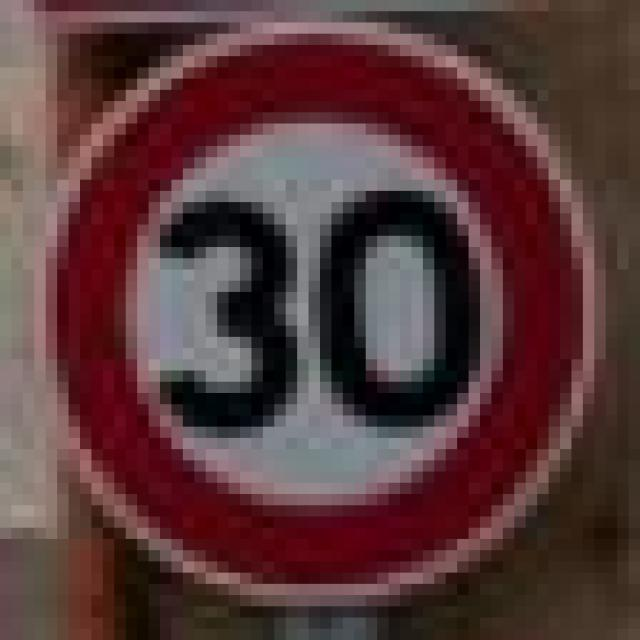traffic_sign: (34, 11, 572, 595)
